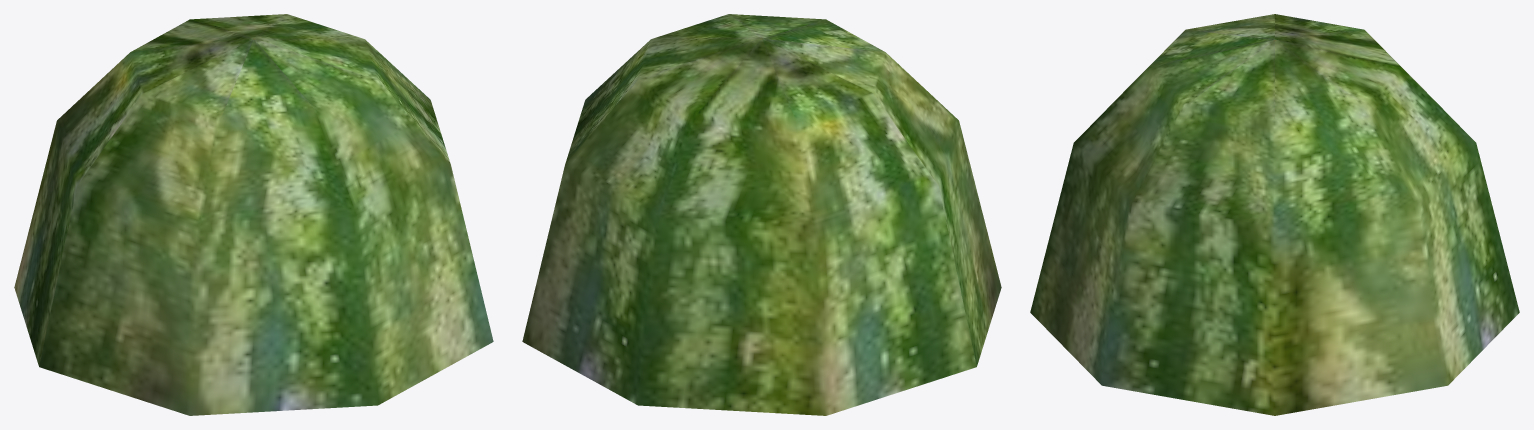
The model's file is Watermelon_02-col.glb.
3 views of the same model, side by side, from view 1: azimuth 30°, elevation 25°; view 2: azimuth 150°, elevation 25°; view 3: azimuth 270°, elevation 25° (orthographic).
Visible parts, largest first — view 1: Watermelon_02-col; view 2: Watermelon_02-col; view 3: Watermelon_02-col.
Part boxes in pixels (box(x1,y1,x2,y2)): Watermelon_02-col: box(14, 14, 493, 415); Watermelon_02-col: box(522, 14, 1001, 415); Watermelon_02-col: box(1030, 14, 1519, 415).
Bounding box in the file's own units: 0.3786 × 0.2324 × 0.3786.
Materials: 1 (1 with a texture image).
